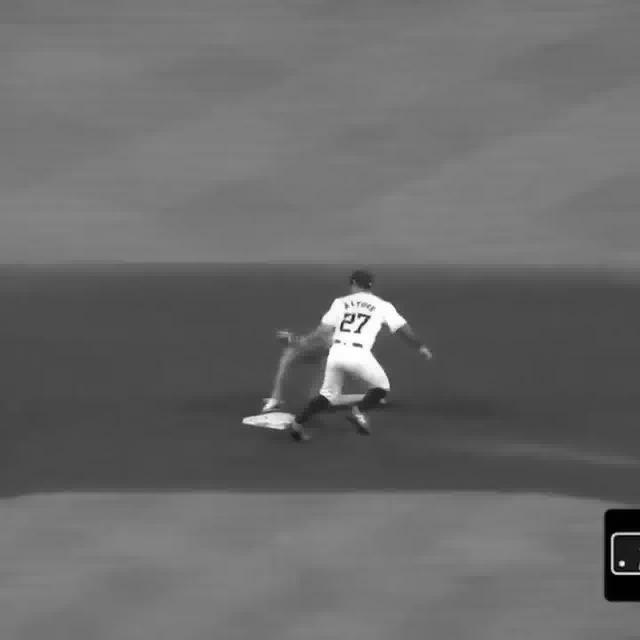base: (247, 411, 295, 429)
baseball_glove: (280, 329, 310, 354)
shoe: (346, 408, 374, 437), (283, 423, 315, 441), (264, 400, 288, 414)
